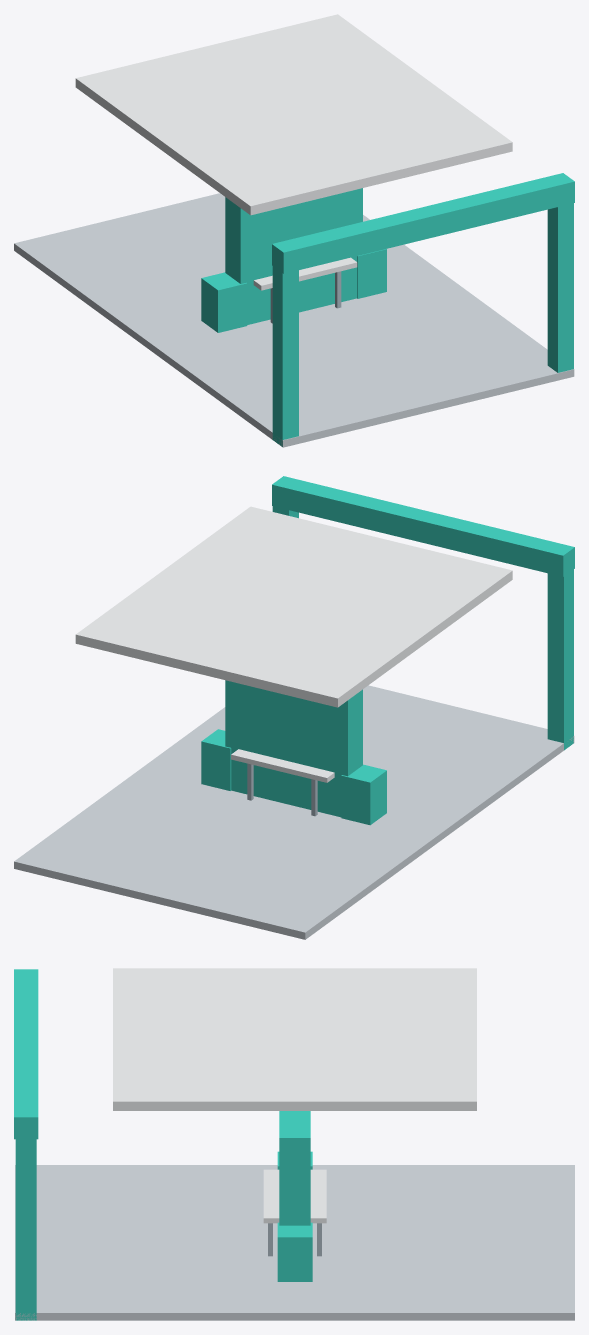
3 renders of one model, top to bottom at view 1: azimuth 30°, elevation 25°; view 2: azimuth 150°, elevation 25°; view 3: azimuth 270°, elevation 25°, orthographic. The views are drawn at different scales.
Parts seen in each view (by area): view 1: Exhibition Booth Concept; view 2: Exhibition Booth Concept; view 3: Exhibition Booth Concept.
Part boxes in pixels (x1,y1,x2,y2): Exhibition Booth Concept: (14,14,574,447); Exhibition Booth Concept: (14,476,574,939); Exhibition Booth Concept: (14,968,574,1320).
Size of the model in its own units: 5 by 3.34 by 8.01.
